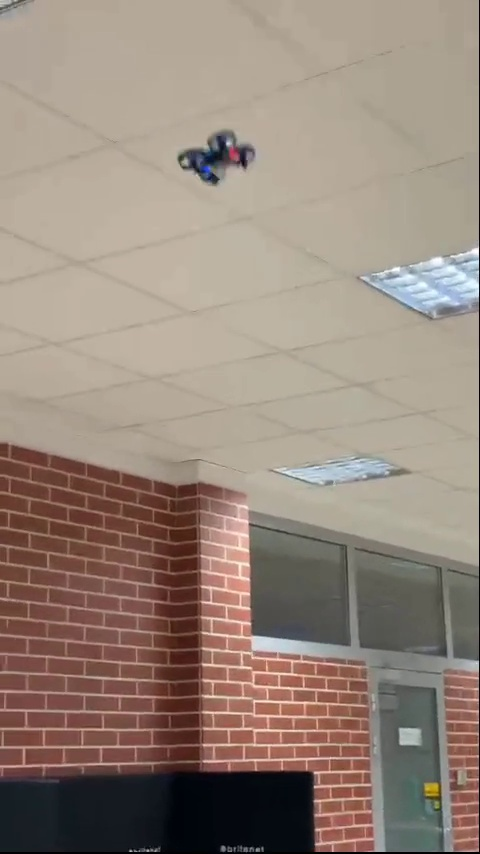drone: (174, 129, 256, 186)
